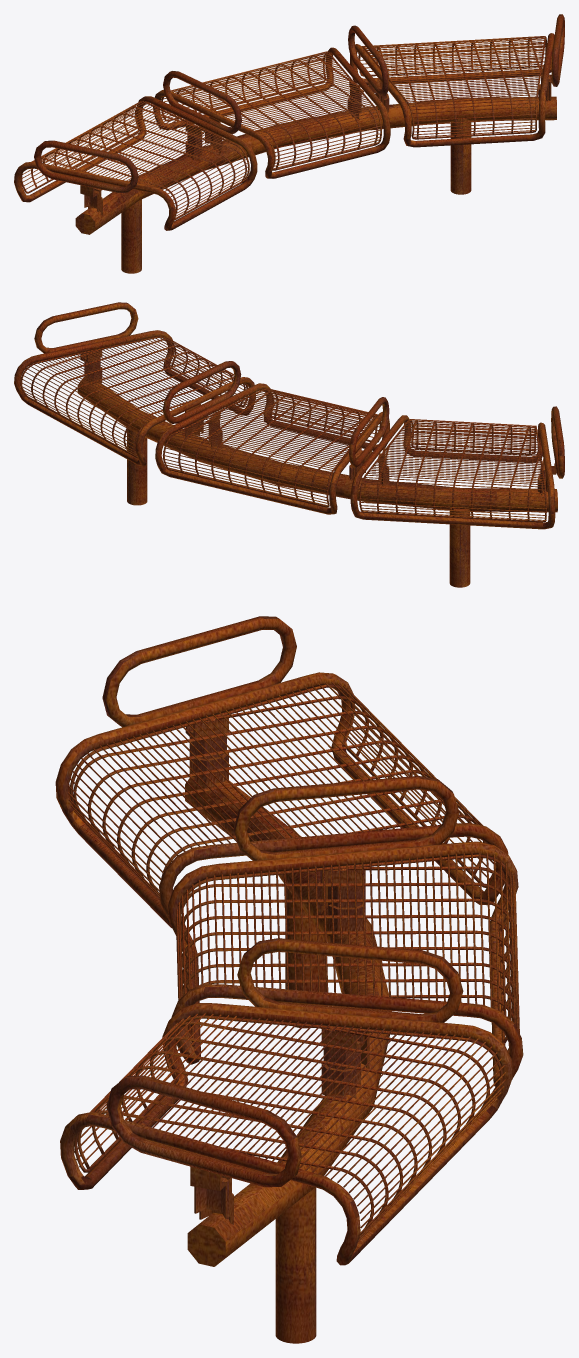
3 renders of one model, top to bottom at view 1: azimuth 30°, elevation 25°; view 2: azimuth 150°, elevation 25°; view 3: azimuth 270°, elevation 25°, orthographic. The views are drawn at different scales.
Parts seen in each view (by area): view 1: mesh81_mesh81-geometry, mesh199_mesh199-geometry, mesh18_mesh18-geometry, mesh17_mesh17-geometry, mesh5_mesh5-geometry, mesh23_mesh23-geometry, mesh19_mesh19-geometry, mesh14_mesh14-geometry, mesh20_mesh20-geometry, mesh55_mesh55-geometry, mesh35_mesh35-geometry, mesh43_mesh43-geometry (+51 smaller); view 2: mesh81_mesh81-geometry, mesh199_mesh199-geometry, mesh18_mesh18-geometry, mesh17_mesh17-geometry, mesh5_mesh5-geometry, mesh23_mesh23-geometry, mesh14_mesh14-geometry, mesh19_mesh19-geometry, mesh20_mesh20-geometry, mesh27_mesh27-geometry, mesh53_mesh53-geometry, mesh54_mesh54-geometry (+46 smaller); view 3: mesh81_mesh81-geometry, mesh18_mesh18-geometry, mesh17_mesh17-geometry, mesh199_mesh199-geometry, mesh5_mesh5-geometry, mesh14_mesh14-geometry, mesh19_mesh19-geometry, mesh20_mesh20-geometry, mesh10_mesh10-geometry, mesh3_mesh3-geometry, mesh12_mesh12-geometry, mesh1_mesh1-geometry (+26 smaller).
Part boxes in pixels (<box>): mesh81_mesh81-geometry: <box>14,33,554,230</box>; mesh199_mesh199-geometry: <box>75,96,556,234</box>; mesh18_mesh18-geometry: <box>43,39,532,215</box>; mesh17_mesh17-geometry: <box>34,25,389,193</box>; mesh5_mesh5-geometry: <box>121,118,471,273</box>; mesh23_mesh23-geometry: <box>83,37,546,201</box>; mesh19_mesh19-geometry: <box>21,47,473,220</box>; mesh14_mesh14-geometry: <box>551,14,564,86</box>; mesh20_mesh20-geometry: <box>31,38,540,187</box>; mesh55_mesh55-geometry: <box>44,40,544,163</box>; mesh35_mesh35-geometry: <box>41,37,545,159</box>; mesh43_mesh43-geometry: <box>34,36,545,161</box>; mesh81_mesh81-geometry: <box>14,330,555,529</box>; mesh199_mesh199-geometry: <box>77,378,557,512</box>; mesh18_mesh18-geometry: <box>42,339,531,520</box>; mesh17_mesh17-geometry: <box>162,361,564,478</box>; mesh5_mesh5-geometry: <box>127,429,470,587</box>; mesh23_mesh23-geometry: <box>20,336,473,517</box>; mesh14_mesh14-geometry: <box>34,302,138,353</box>; mesh19_mesh19-geometry: <box>82,384,546,522</box>; mesh20_mesh20-geometry: <box>31,348,539,521</box>; mesh27_mesh27-geometry: <box>19,381,546,509</box>; mesh53_mesh53-geometry: <box>21,374,546,501</box>; mesh54_mesh54-geometry: <box>22,391,546,518</box>; mesh81_mesh81-geometry: <box>55,672,523,1265</box>; mesh18_mesh18-geometry: <box>73,710,516,1219</box>; mesh17_mesh17-geometry: <box>102,616,463,1022</box>; mesh199_mesh199-geometry: <box>185,776,392,1266</box>; mesh5_mesh5-geometry: <box>275,887,326,1343</box>; mesh14_mesh14-geometry: <box>107,1075,301,1187</box>; mesh19_mesh19-geometry: <box>69,684,512,1173</box>; mesh20_mesh20-geometry: <box>199,696,516,1234</box>; mesh10_mesh10-geometry: <box>194,753,369,1224</box>; mesh3_mesh3-geometry: <box>192,736,369,1217</box>; mesh12_mesh12-geometry: <box>190,1166,228,1219</box>; mesh1_mesh1-geometry: <box>190,718,369,1178</box>.
Size of the model in its own units: 0.9056 by 0.2528 by 0.3404.
